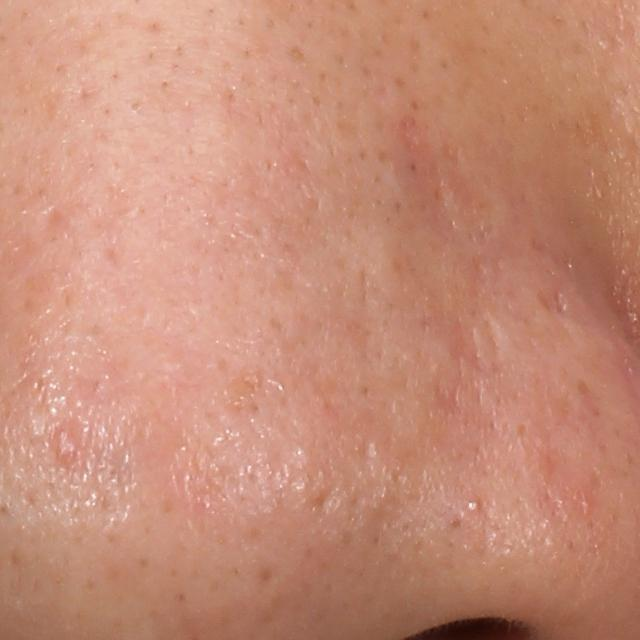atrophic_scar: (444, 313, 483, 372), (30, 203, 74, 251)
comedo: (465, 496, 481, 515)
